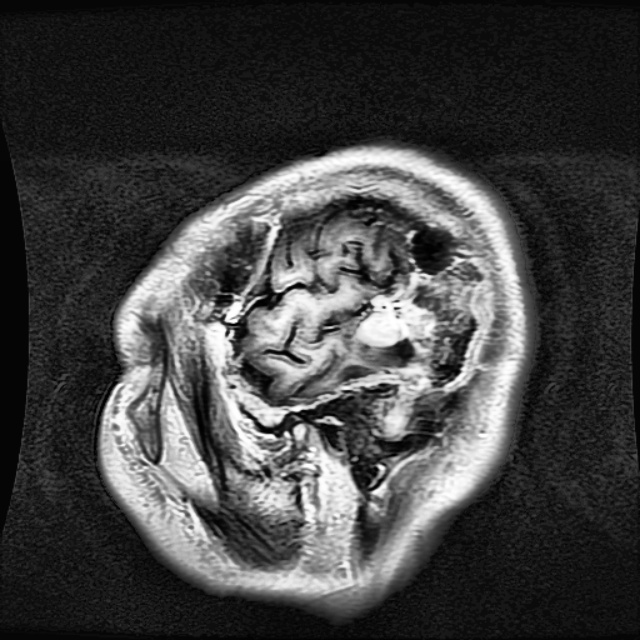Meningioma: (358, 299, 435, 353)
